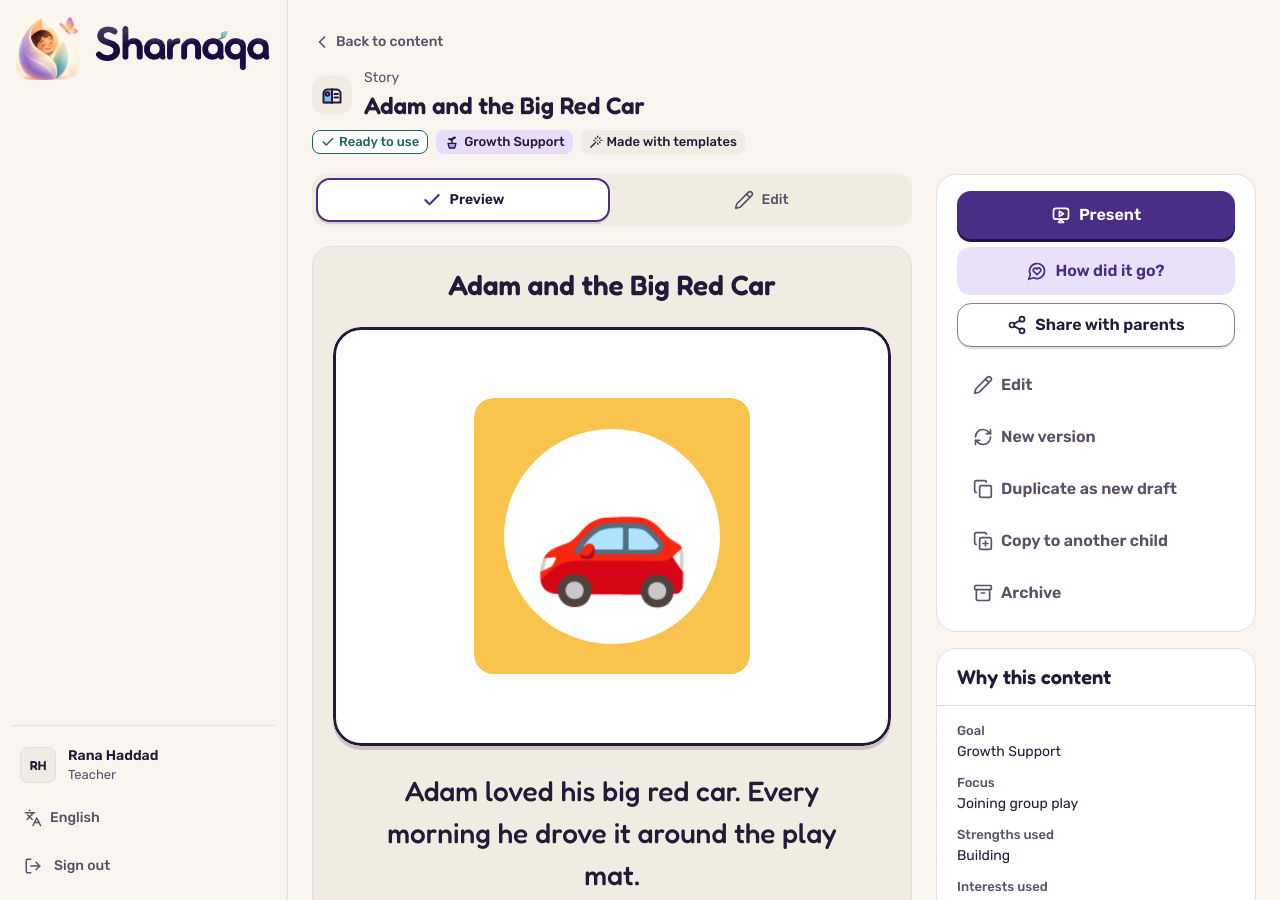
Test: ContentReviewPage › feedback saves with two taps: a result, then Save
This screenshot has width=1280, height=900.
Click the button "How did it go?" at (1096, 271), box [957,247,1235,295]
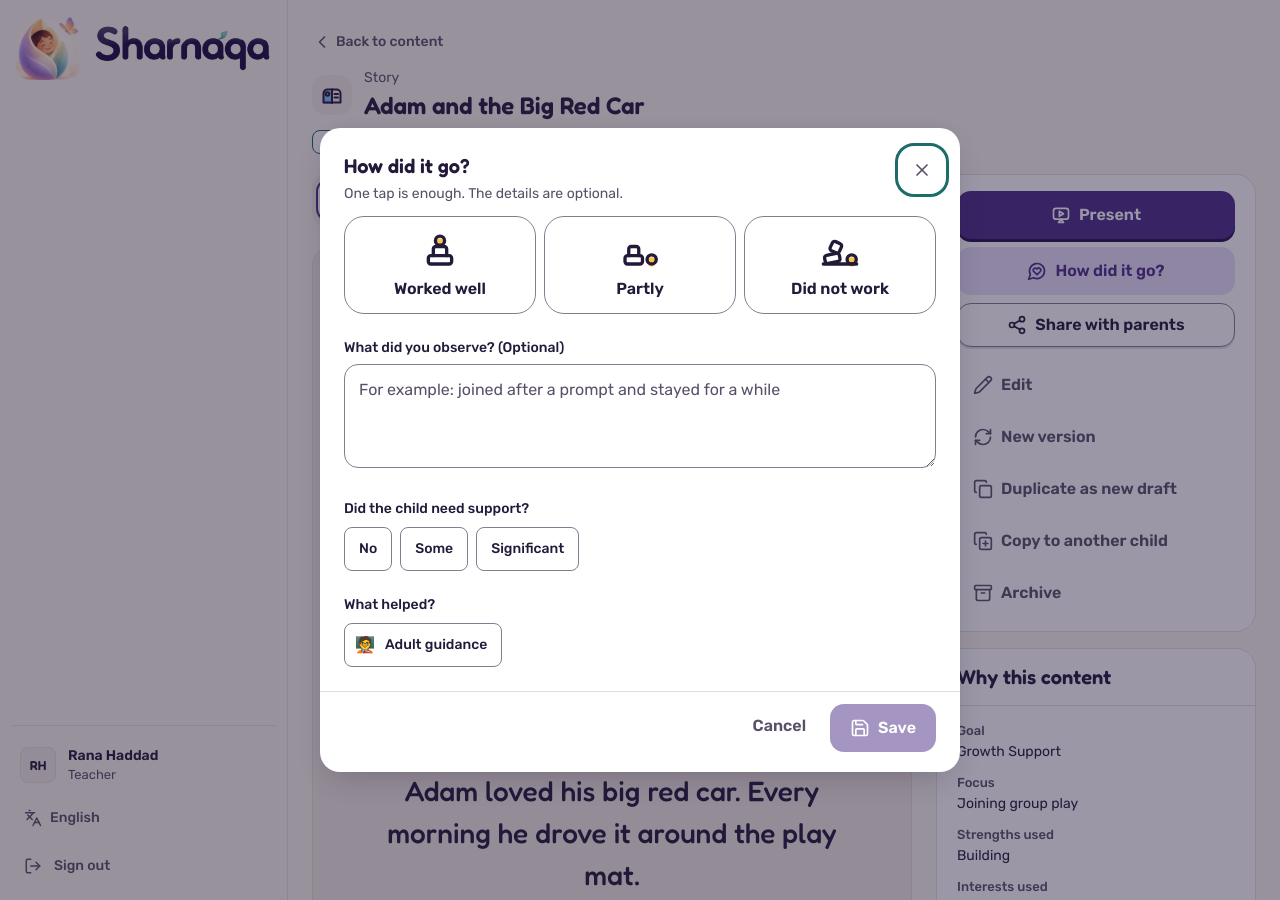
Check: the button "Save" is disabled, box [830,704,936,752]
Click the radio button labelled "Partly" at (640, 265), box [544,216,736,314]
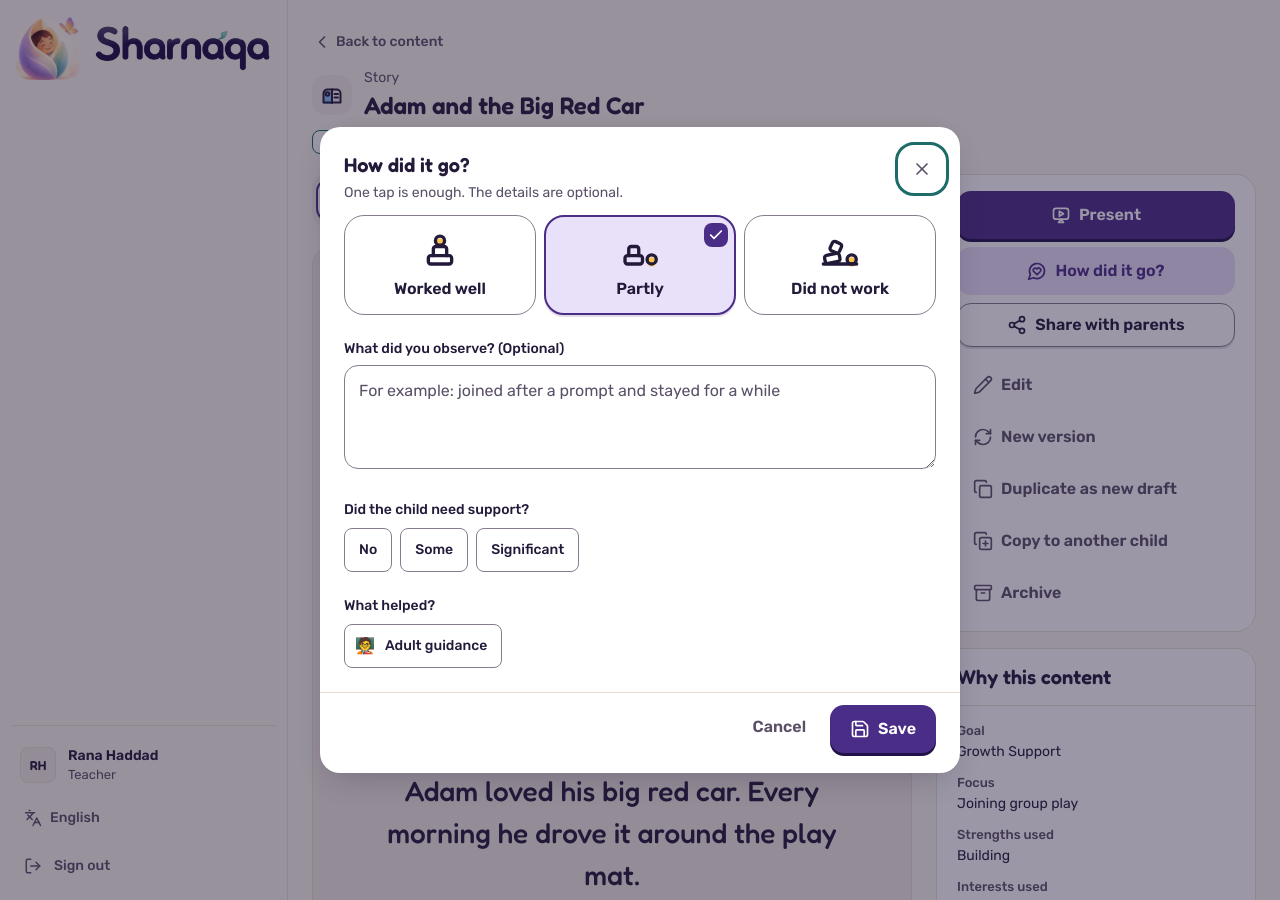
Click the button "Save" at (883, 729), box [830,705,936,753]
(page scrolled)
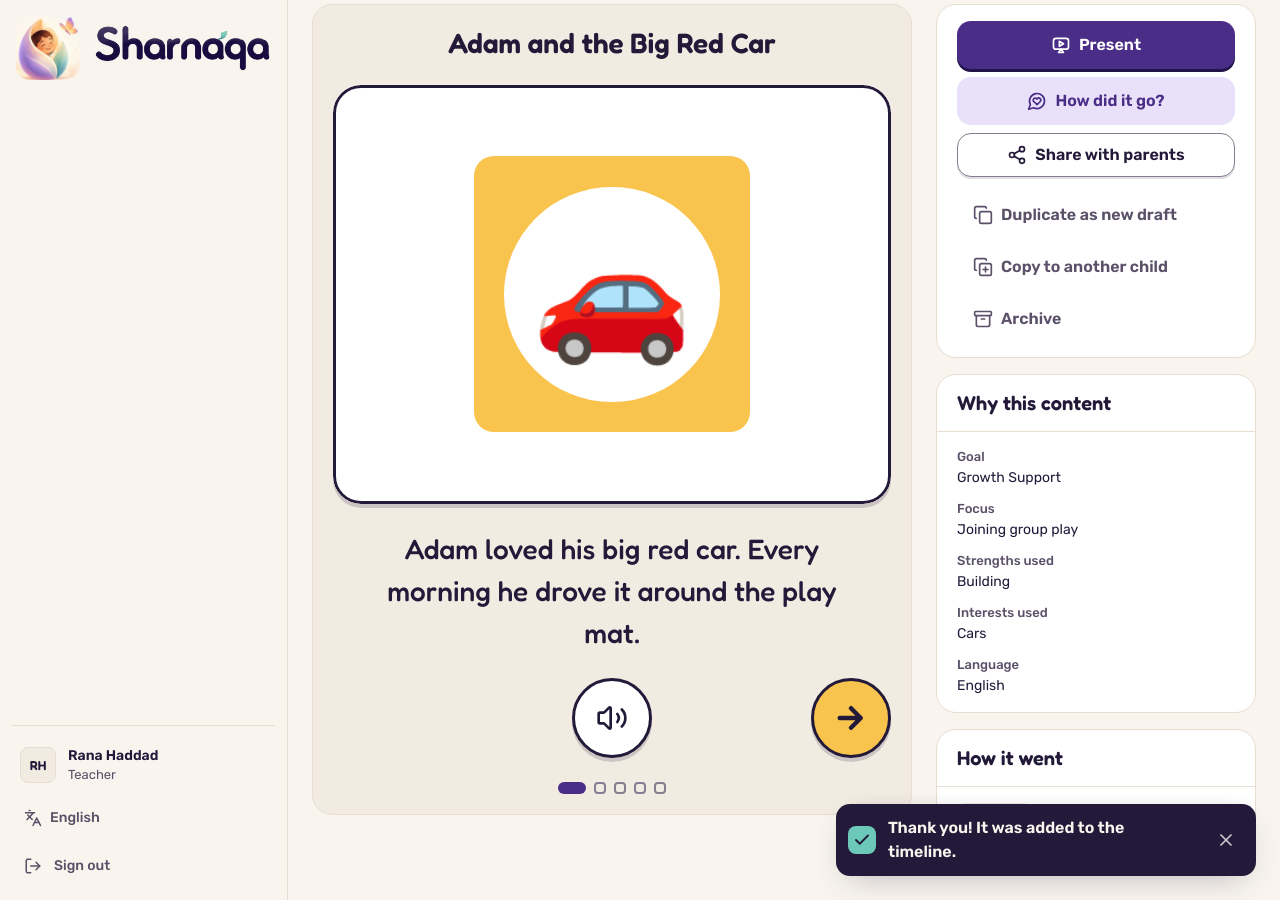
Check: the text "Partly" is shown, box [957,803,1031,827]
Check: the text "Thank you! It was added to the timeline." is shown, box [888,818,1124,861]
